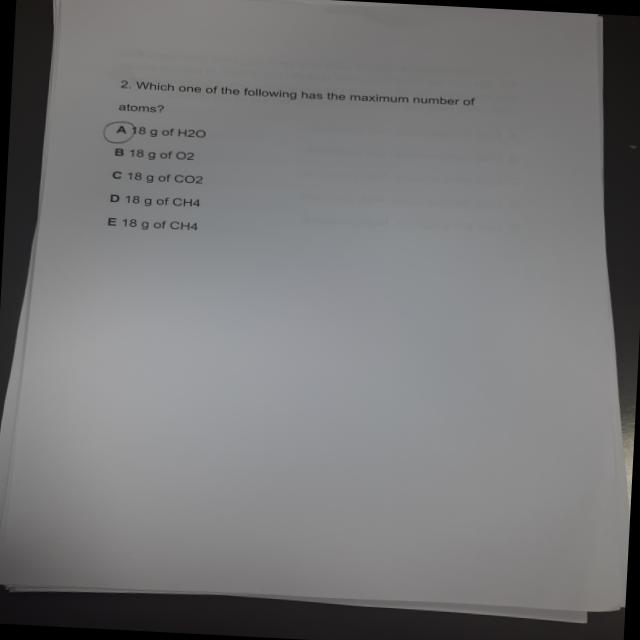A: (102, 120, 141, 148)
